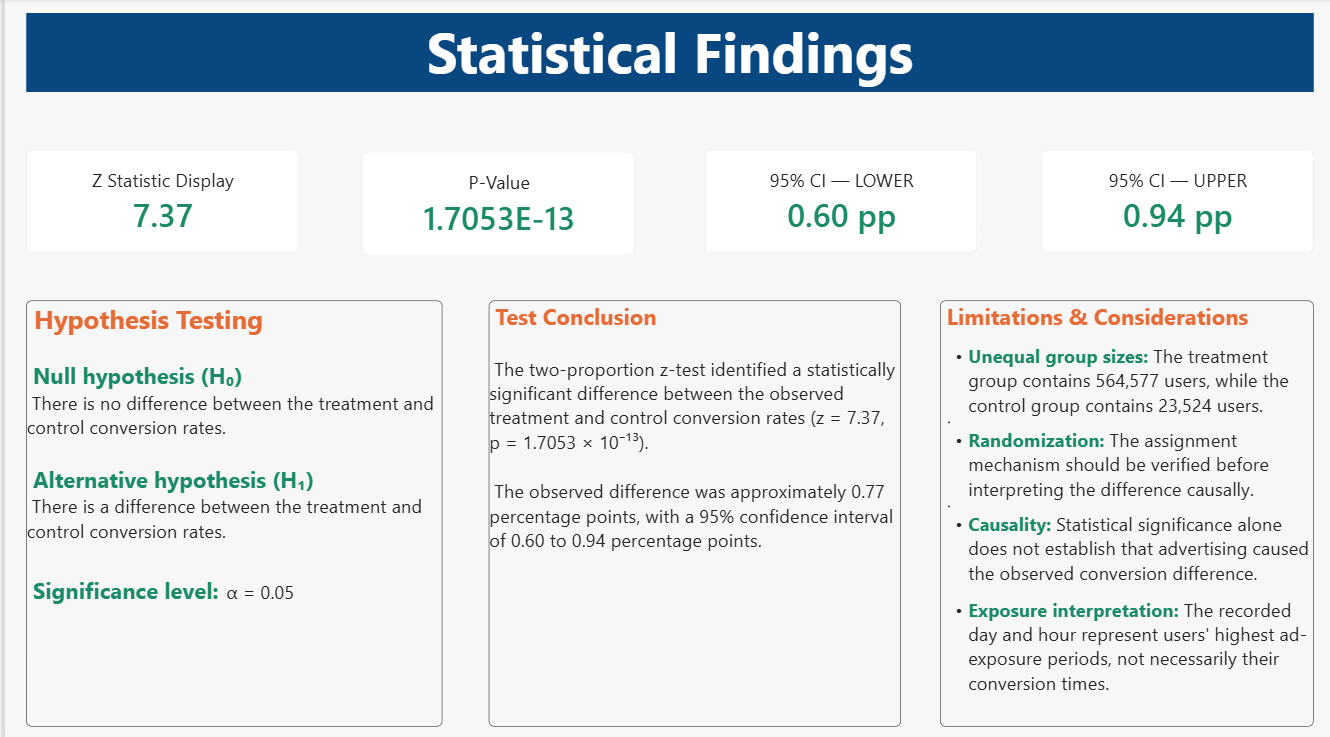

The dashboard page shown, as its layout file describes it:
{"tool":"powerbi","page":{"name":"Findings","canvas":[1920,1080],"ordinal":3},"visuals":[{"type":"textbox","box":[30.8,21.7,1864,114],"z":0},{"type":"cardVisual","fields":{"Data":["Statistical_test.Z Statistic Display"]},"box":[30.8,219,394.5,150.2],"z":1},{"type":"cardVisual","fields":{"Data":["Min(Statistical_test.Result)"]},"box":[517.6,222.6,394.5,150.2],"z":2},{"type":"cardVisual","fields":{"Data":["Statistical_test.CI Lower Display"]},"box":[1013.4,219,394.5,150.2],"z":3},{"type":"cardVisual","fields":{"Data":["Statistical_test.CI Upper Display"]},"box":[1500.2,219,394.5,150.2],"z":4},{"type":"textbox","box":[30.8,437.9,602.6,617.1],"z":5},{"type":"textbox","box":[700.3,437.9,597.2,617.1],"z":6},{"type":"textbox","box":[1353.6,437.9,541.1,617.1],"z":7}]}

Visuals, with their boxes in screenshot pixels (x1, y1, x2, y2), scaled from the page's 1920x1080 canvas onto the 1330x737 screenshot:
textbox: detection(21, 15, 1313, 93)
cardVisual - Statistical_test.Z Statistic Display: detection(21, 149, 295, 252)
cardVisual - Min(Statistical_test.Result): detection(359, 152, 632, 254)
cardVisual - Statistical_test.CI Lower Display: detection(702, 149, 975, 252)
cardVisual - Statistical_test.CI Upper Display: detection(1039, 149, 1312, 252)
textbox: detection(21, 299, 439, 720)
textbox: detection(485, 299, 899, 720)
textbox: detection(938, 299, 1312, 720)
